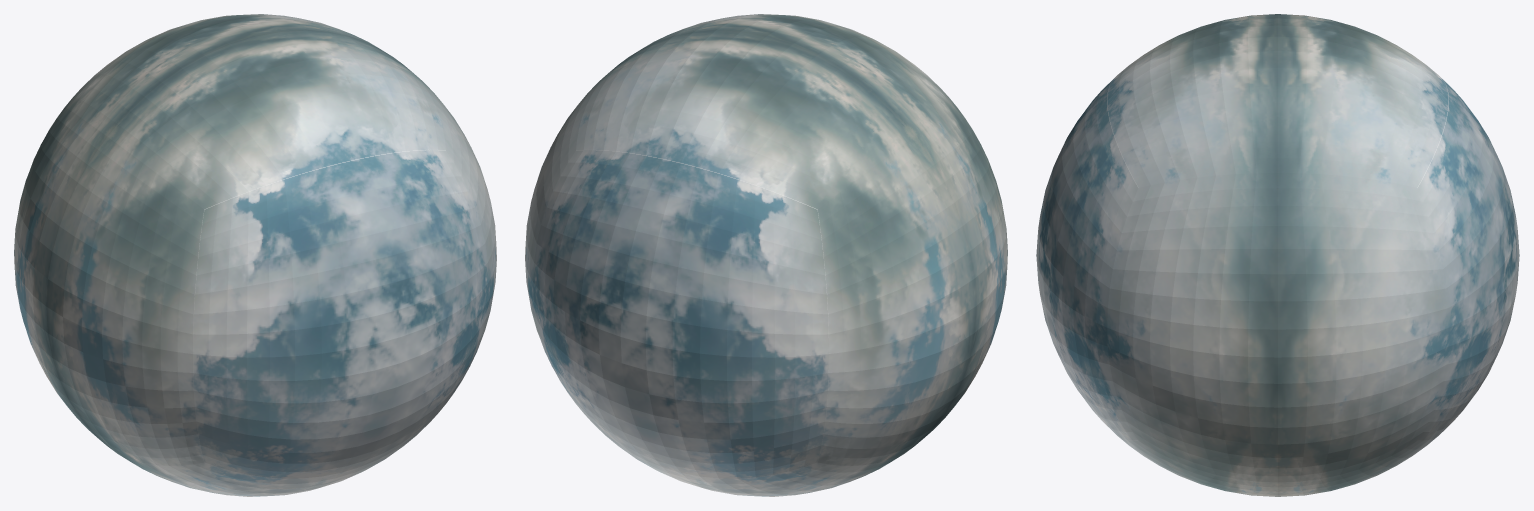
The model's file is skybox.gltf.
The picture shows the model from 3 angles, left to right: view 1: azimuth 30°, elevation 25°; view 2: azimuth 150°, elevation 25°; view 3: azimuth 270°, elevation 25°; orthographic projection.
Parts seen in each view (by area): view 1: Cube; view 2: Cube; view 3: Cube.
Boxes of the visible parts, left/top/right/bottom form: Cube: left=14, top=14, right=496, bottom=496; Cube: left=525, top=14, right=1007, bottom=496; Cube: left=1036, top=14, right=1519, bottom=496.
Size of the model in its own units: 2.57 by 2.57 by 2.57.
Materials: 1 (1 with a texture image).
